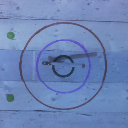Axe Tip: (47, 60, 58, 62)
